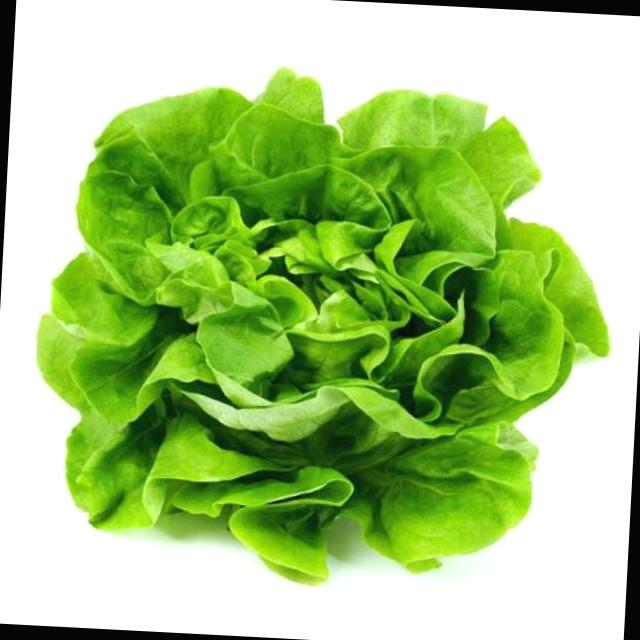Lettuce-Ready-to-Harvest: (39, 72, 608, 582)
